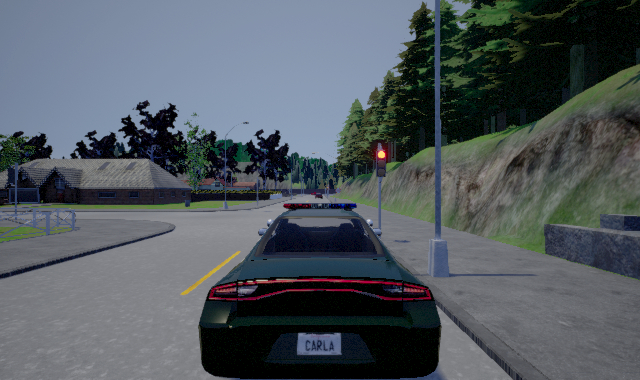traffic_light: (376, 145, 386, 178)
vehicle: (198, 203, 442, 379), (316, 191, 323, 198)
